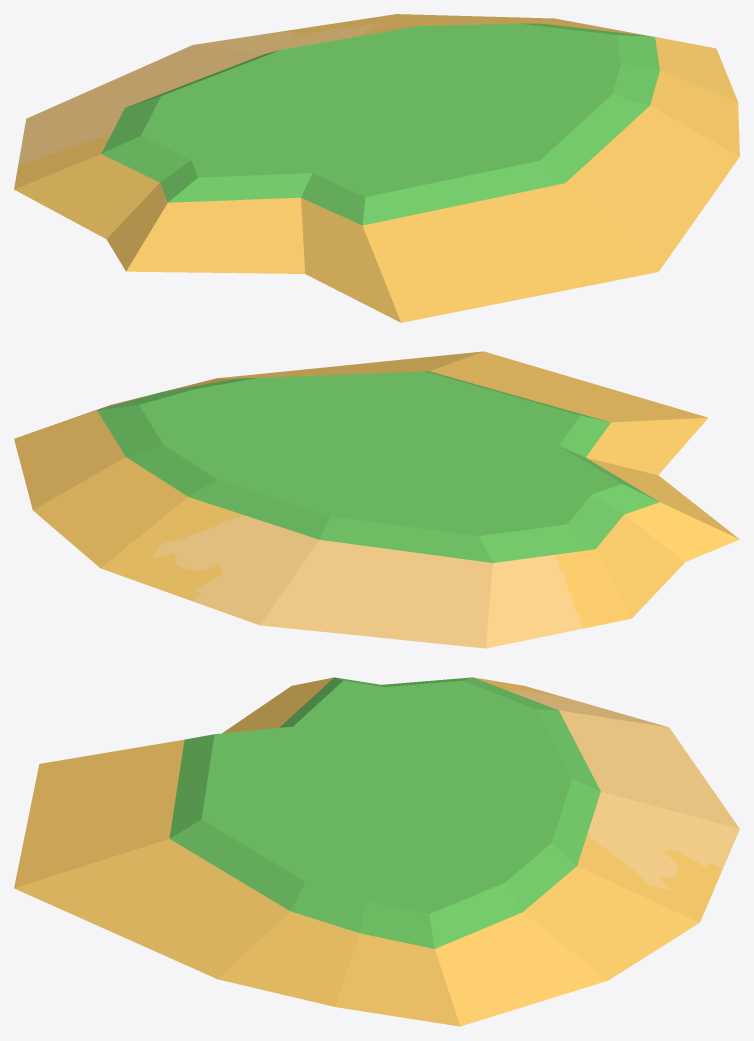
Rendered from Island2.obj.
3 renders of one model, top to bottom at view 1: azimuth 30°, elevation 25°; view 2: azimuth 150°, elevation 25°; view 3: azimuth 270°, elevation 25°, orthographic. The views are drawn at different scales.
Parts seen in each view (by area): view 1: Island2; view 2: Island2; view 3: Island2.
Boxes of the visible parts, x1,y1,x2,y2 form: Island2: (14,14,739,322); Island2: (14,351,739,648); Island2: (14,677,739,1026).
Size of the model in its own units: 8.32 by 0.6188 by 7.49.
1 material, 1 textured.
